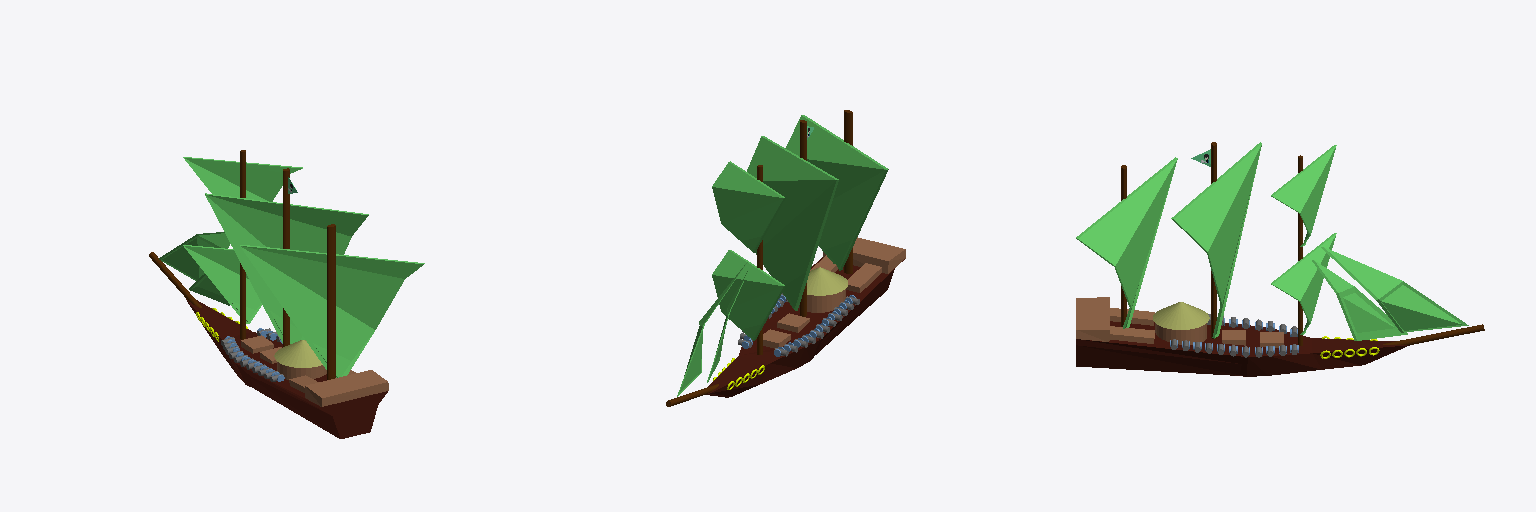
The picture shows the model from 3 angles: view 1: azimuth 30°, elevation 25°; view 2: azimuth 150°, elevation 25°; view 3: azimuth 270°, elevation 25°; orthographic projection.
Parts seen in each view (by area): view 1: Cube.003_Cube.013, Cube.001_Cube.012, Cube_Cube.001, Cube.002_Cube.008, Cube.004_Cube.014, Cube.009_Cube.019, Cylinder.003_Cylinder.007, Cube.006_Cube.016, Cone, Cylinder.002_Cylinder.006, Cylinder.001_Cylinder.002; view 2: Cube.001_Cube.012, Cube.003_Cube.013, Cube_Cube.001, Cube.002_Cube.008, Cube.004_Cube.014, Cube.009_Cube.019, Cube.006_Cube.016, Cone, Cube.008_Cube.018, Cylinder.004_Cylinder.009; view 3: Cube_Cube.001, Cube.001_Cube.012, Cube.003_Cube.013, Cube.006_Cube.016, Cube.005_Cube.015, Cube.002_Cube.008, Cube.004_Cube.014, Cube.009_Cube.019, Cone, Cylinder.004_Cylinder.009, Cube.007_Cube.017, Cylinder_Cylinder.008 (+1 smaller).
Boxes of the visible parts, x1=… form: Cube.003_Cube.013: x1=240, y1=245, x2=424, y2=377; Cube.001_Cube.012: x1=205, y1=193, x2=368, y2=343; Cube_Cube.001: x1=186, y1=299, x2=387, y2=438; Cube.002_Cube.008: x1=183, y1=157, x2=302, y2=201; Cube.004_Cube.014: x1=183, y1=245, x2=261, y2=323; Cube.009_Cube.019: x1=305, y1=370, x2=388, y2=406; Cylinder.003_Cylinder.007: x1=327, y1=224, x2=335, y2=379; Cube.006_Cube.016: x1=159, y1=232, x2=229, y2=280; Cone: x1=274, y1=340, x2=322, y2=367; Cylinder.002_Cylinder.006: x1=283, y1=168, x2=289, y2=346; Cylinder.001_Cylinder.002: x1=240, y1=150, x2=245, y2=339; Cube.001_Cube.012: x1=747, y1=136, x2=838, y2=310; Cube.003_Cube.013: x1=785, y1=115, x2=888, y2=270; Cube_Cube.001: x1=706, y1=257, x2=904, y2=397; Cube.002_Cube.008: x1=712, y1=161, x2=785, y2=252; Cube.004_Cube.014: x1=712, y1=250, x2=785, y2=340; Cube.009_Cube.019: x1=823, y1=237, x2=905, y2=273; Cube.006_Cube.016: x1=677, y1=262, x2=747, y2=396; Cone: x1=807, y1=267, x2=847, y2=295; Cube.008_Cube.018: x1=846, y1=263, x2=881, y2=292; Cylinder.004_Cylinder.009: x1=799, y1=289, x2=845, y2=312; Cube_Cube.001: x1=1076, y1=321, x2=1409, y2=376; Cube.001_Cube.012: x1=1171, y1=142, x2=1261, y2=338; Cube.003_Cube.013: x1=1076, y1=157, x2=1177, y2=328; Cube.006_Cube.016: x1=1321, y1=247, x2=1468, y2=332; Cube.005_Cube.015: x1=1312, y1=260, x2=1407, y2=340; Cube.002_Cube.008: x1=1271, y1=145, x2=1336, y2=246; Cube.004_Cube.014: x1=1271, y1=233, x2=1336, y2=334; Cube.009_Cube.019: x1=1076, y1=297, x2=1109, y2=341; Cone: x1=1153, y1=302, x2=1209, y2=329; Cylinder.004_Cylinder.009: x1=1155, y1=323, x2=1206, y2=344; Cube.007_Cube.017: x1=1110, y1=326, x2=1154, y2=343; Cylinder_Cylinder.008: x1=1383, y1=324, x2=1484, y2=344.
Size of the model in its own units: 2.24 by 3.47 by 5.8.
Materials: 10 (1 with a texture image).